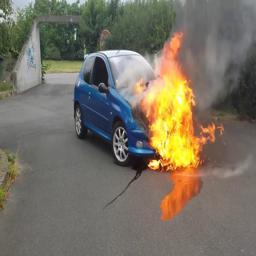fire: (137, 31, 226, 169)
